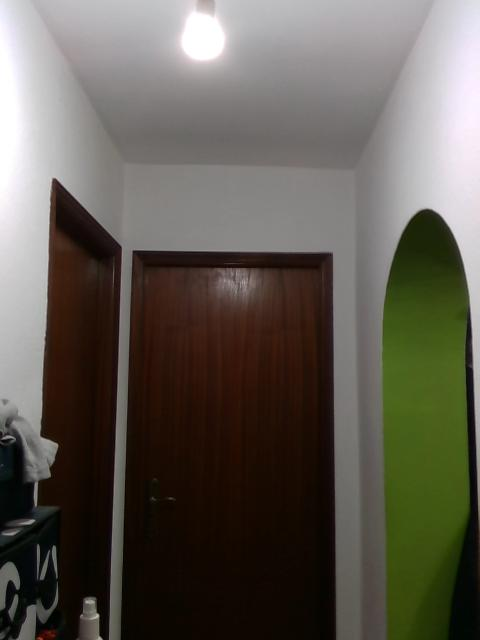door: (136, 268, 324, 640), (53, 228, 111, 640)
